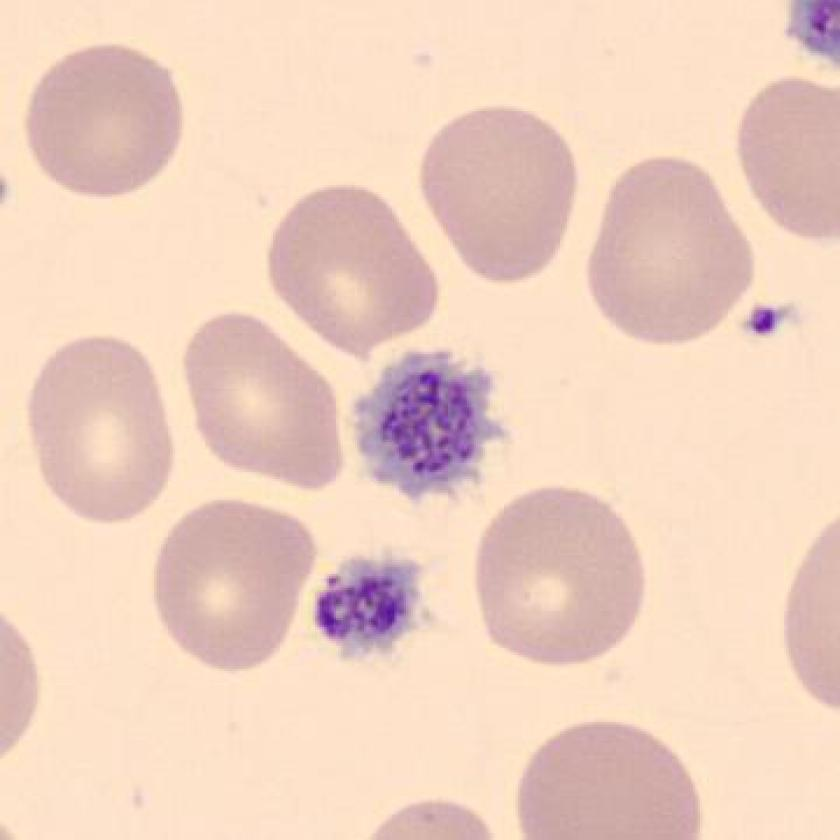platelets: (344, 344, 519, 515), (307, 547, 444, 672), (780, 1, 840, 80)
